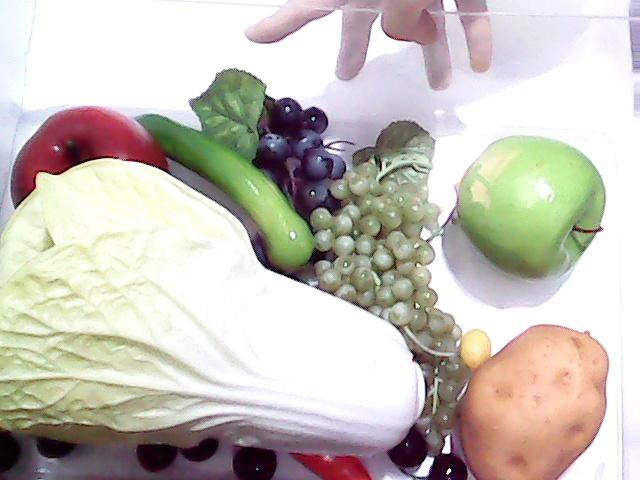apple: (449, 134, 609, 283), (5, 94, 166, 223)
carrot: (291, 418, 373, 480)
grape: (308, 164, 466, 456), (247, 94, 349, 270)
napa cabbage: (0, 175, 426, 449)
pepper: (120, 99, 320, 273)
potato: (458, 324, 610, 476)
